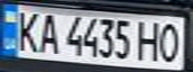3: (97, 16, 118, 60)
4: (60, 14, 84, 56), (81, 15, 100, 57)
5: (115, 17, 136, 61)
A: (33, 11, 60, 55)
H: (136, 18, 163, 62)
K: (9, 8, 42, 53)
O: (157, 20, 184, 63)
